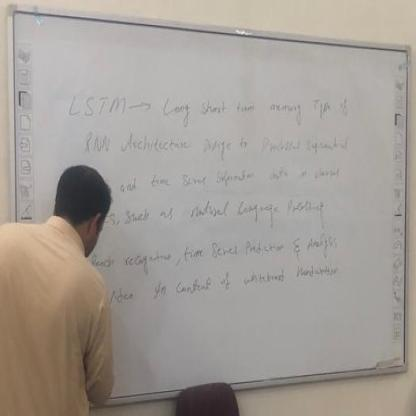Handwritten text: (65, 80, 364, 127), (120, 229, 346, 282), (147, 256, 346, 307), (121, 188, 334, 235), (113, 156, 352, 195), (79, 127, 361, 159)
Lecturer: (8, 165, 125, 409)
Whiteboard: (6, 5, 413, 416)
